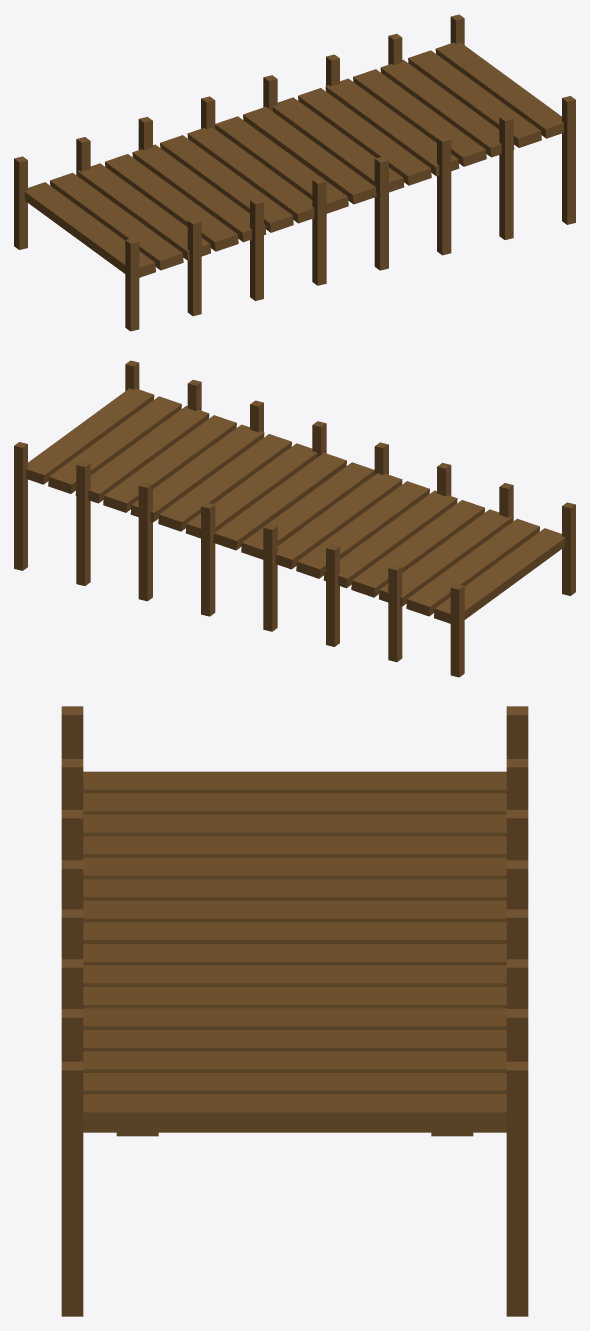
File: 07_woodenTrestle.fbx
3 renders of one model, top to bottom at view 1: azimuth 30°, elevation 25°; view 2: azimuth 150°, elevation 25°; view 3: azimuth 270°, elevation 25°, orthographic. The views are drawn at different scales.
Visible parts, largest first — view 1: WoodenTrestle.001, WoodenTrestle.002; view 2: WoodenTrestle.001, WoodenTrestle.002; view 3: WoodenTrestle.001, WoodenTrestle.002.
Part boxes in pixels (left/top/right/bottom): WoodenTrestle.001: left=24, top=42, right=563, bottom=277; WoodenTrestle.002: left=14, top=14, right=575, bottom=331; WoodenTrestle.001: left=26, top=388, right=565, bottom=623; WoodenTrestle.002: left=14, top=360, right=575, bottom=677; WoodenTrestle.001: left=83, top=771, right=506, bottom=1136; WoodenTrestle.002: left=61, top=706, right=528, bottom=1316.
Size of the model in its own units: 1494 by 395 by 677.
